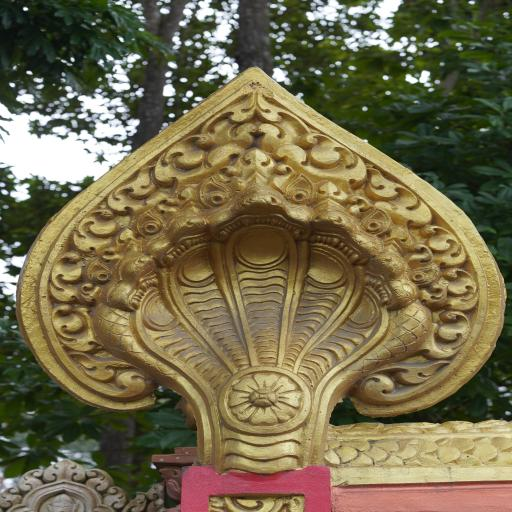la: (43, 458, 85, 484), (80, 465, 114, 491), (16, 467, 48, 489), (124, 487, 148, 512), (0, 485, 22, 509), (103, 488, 126, 509)
ran: (6, 67, 512, 511)
than: (44, 493, 80, 512)
